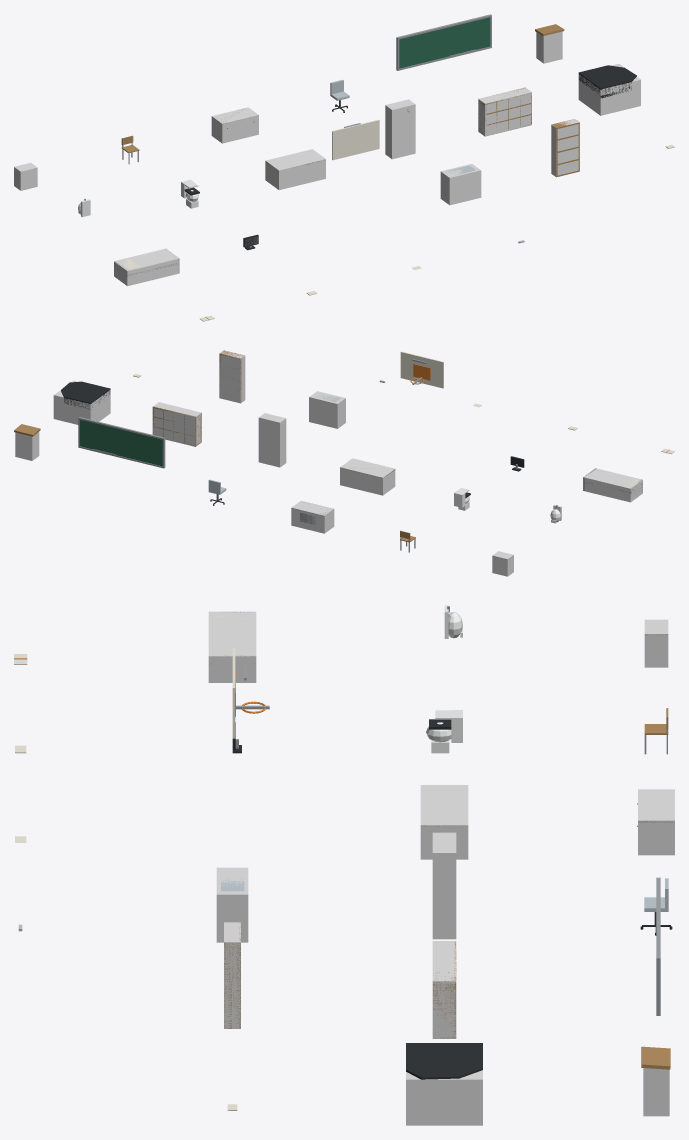
File: b03_school_prop_library_preview.glb
3 renders of one model, top to bottom at view 1: azimuth 30°, elevation 25°; view 2: azimuth 150°, elevation 25°; view 3: azimuth 270°, elevation 25°, orthographic. The views are drawn at different scales.
Parts seen in each view (by area): view 1: VIS_Prop_Blackboard, COL_Prop_BaggageLocker, COL_Prop_LargeWoodTable, COL_Prop_GrandPiano, COL_Prop_CleaningLocker, COL_Prop_InfirmaryBed, VIS_Prop_BasketballGoal, COL_Prop_Bookshelf, COL_Prop_VaultingBox, COL_Prop_StaffDesk, VIS_Prop_GrandPiano, COL_Prop_StageLectern (+2 smaller); view 2: VIS_Prop_Blackboard, COL_Prop_BaggageLocker, COL_Prop_LargeWoodTable, COL_Prop_CleaningLocker, COL_Prop_InfirmaryBed, COL_Prop_GrandPiano, COL_Prop_Bookshelf, VIS_Prop_BasketballGoal, COL_Prop_VaultingBox, COL_Prop_StaffDesk, VIS_Prop_GrandPiano, COL_Prop_StageLectern (+2 smaller); view 3: COL_Prop_GrandPiano, COL_Prop_InfirmaryBed, COL_Prop_LargeWoodTable, COL_Prop_CleaningLocker, VIS_Prop_GrandPiano, COL_Prop_StaffDesk, COL_Prop_BaggageLocker, COL_Prop_VaultingBox, COL_Prop_Bookshelf, COL_Prop_StageLectern, VIS_Prop_WesternToilet, COL_Prop_ClassroomDesk.
Boxes of the visible parts, x1,y1,x2,y2 form: VIS_Prop_Blackboard: (396, 14, 491, 70); COL_Prop_BaggageLocker: (478, 87, 531, 136); COL_Prop_LargeWoodTable: (265, 149, 325, 190); COL_Prop_GrandPiano: (578, 64, 640, 115); COL_Prop_CleaningLocker: (385, 99, 415, 159); COL_Prop_InfirmaryBed: (114, 248, 179, 286); VIS_Prop_BasketballGoal: (332, 119, 379, 160); COL_Prop_Bookshelf: (551, 119, 579, 176); COL_Prop_VaultingBox: (440, 164, 481, 205); COL_Prop_StaffDesk: (211, 107, 258, 143); VIS_Prop_GrandPiano: (578, 65, 636, 98); COL_Prop_StageLectern: (536, 31, 562, 63); VIS_Prop_Blackboard: (78, 417, 165, 468); COL_Prop_BaggageLocker: (152, 402, 201, 446); COL_Prop_LargeWoodTable: (340, 458, 395, 495); COL_Prop_CleaningLocker: (258, 413, 286, 467); COL_Prop_InfirmaryBed: (583, 468, 642, 502); COL_Prop_GrandPiano: (53, 380, 110, 424); COL_Prop_Bookshelf: (219, 350, 245, 403); VIS_Prop_BasketballGoal: (400, 351, 443, 388); COL_Prop_VaultingBox: (309, 391, 345, 428); COL_Prop_StaffDesk: (291, 500, 334, 533); VIS_Prop_GrandPiano: (61, 381, 110, 409); COL_Prop_StageLectern: (15, 432, 39, 460); COL_Prop_GrandPiano: (406, 1070, 482, 1125); COL_Prop_InfirmaryBed: (208, 611, 256, 682); COL_Prop_LargeWoodTable: (420, 785, 468, 859); COL_Prop_CleaningLocker: (432, 832, 456, 939); VIS_Prop_GrandPiano: (406, 1043, 482, 1079); COL_Prop_StaffDesk: (638, 789, 674, 855); COL_Prop_BaggageLocker: (432, 941, 456, 1038); COL_Prop_VaultingBox: (216, 867, 248, 942); COL_Prop_Bookshelf: (224, 922, 240, 1028); COL_Prop_StageLectern: (643, 1068, 669, 1116); VIS_Prop_WesternToilet: (426, 710, 462, 753); COL_Prop_ClassroomDesk: (644, 619, 668, 667).
Bounding box in the file's own units: 21.77 × 3.57 × 12.48.
